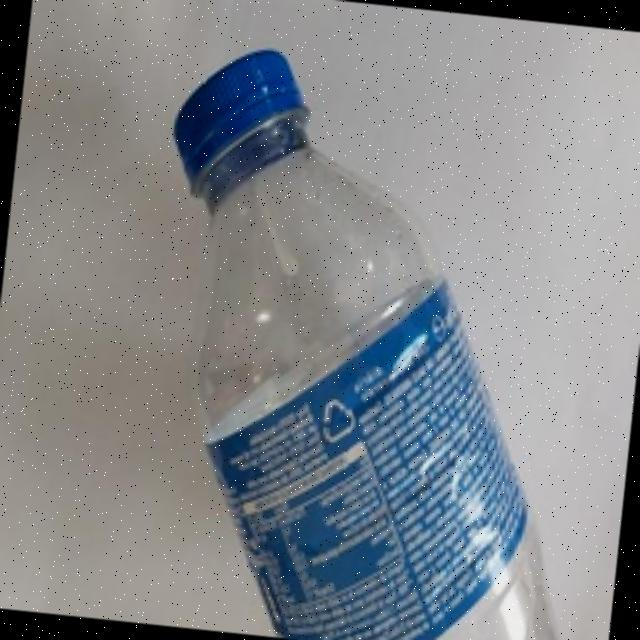bottle: (111, 47, 617, 640)
cap: (164, 42, 306, 188)
